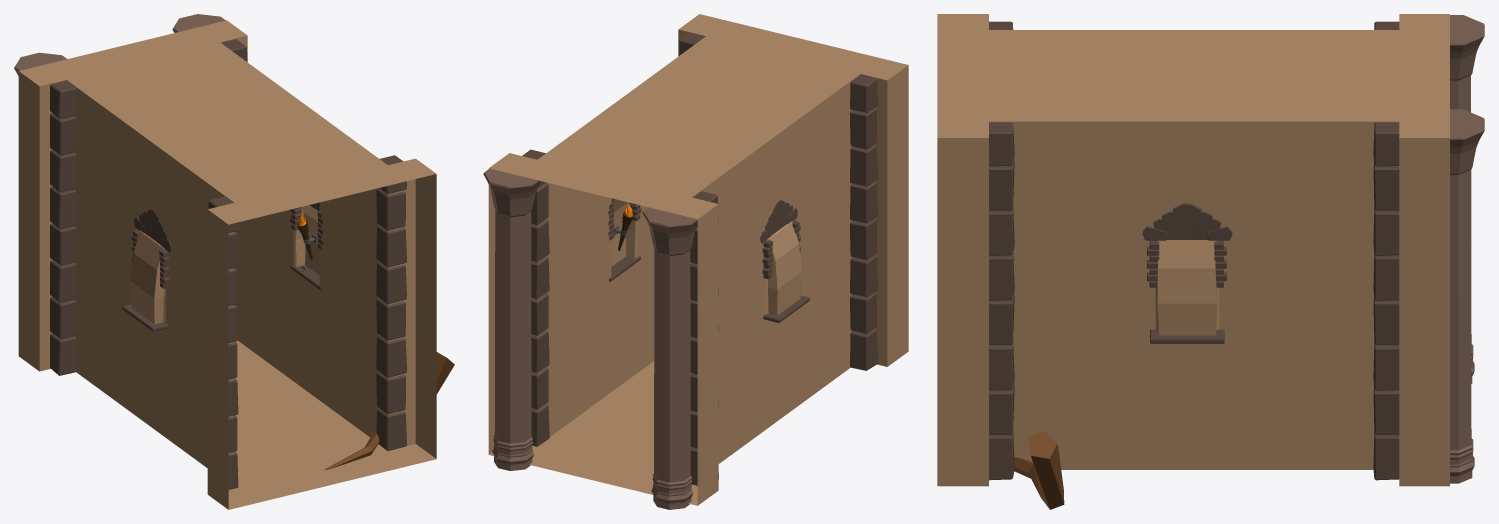
File: tunnel_B 1.fbx
3 renders of one model, left to right at view 1: azimuth 30°, elevation 25°; view 2: azimuth 150°, elevation 25°; view 3: azimuth 270°, elevation 25°, orthographic. The views are drawn at different scales.
Parts seen in each view (by area): view 1: Tunnel_B; view 2: Tunnel_B; view 3: Tunnel_B.
Part boxes in pixels (x1,y1,x2,y2): Tunnel_B: [14, 14, 454, 509]; Tunnel_B: [483, 14, 908, 509]; Tunnel_B: [937, 14, 1484, 509].
Bounding box in the file's own units: 291 × 305 × 427.
